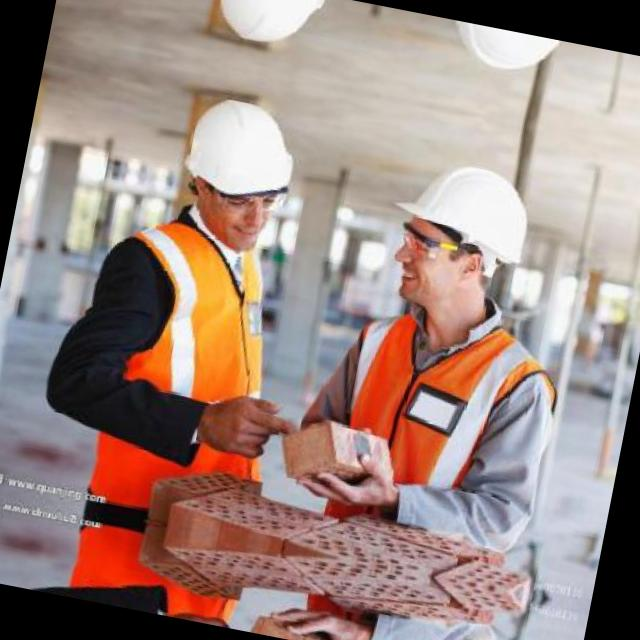helmet: (362, 136, 550, 348), (158, 76, 322, 262), (410, 14, 574, 94), (195, 0, 342, 68)
